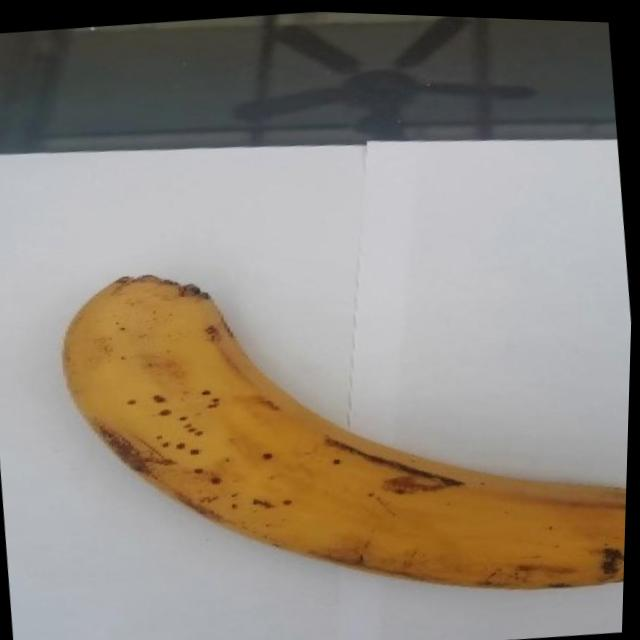Banana: (50, 218, 635, 636)
